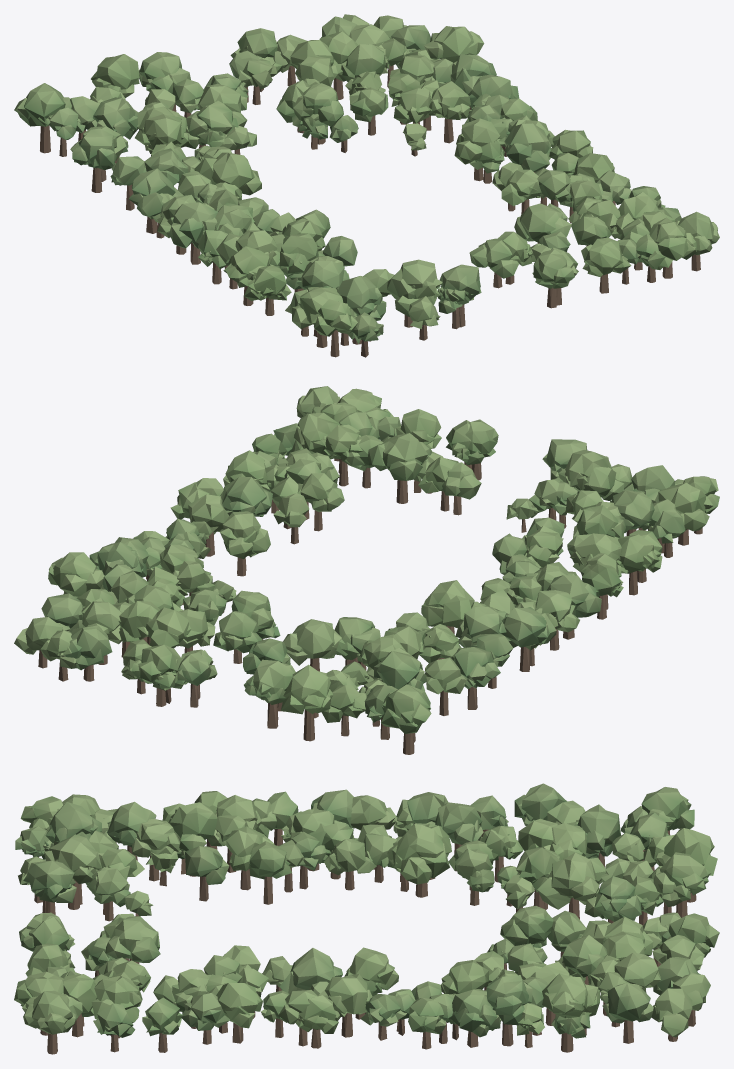
File: mossy_glade_trees_roblox.glb
The picture shows the model from 3 angles, top to bottom: view 1: azimuth 30°, elevation 25°; view 2: azimuth 150°, elevation 25°; view 3: azimuth 270°, elevation 25°; orthographic projection. The views are drawn at different scales.
Parts seen in each view (by area): view 1: Boss_Tree_05, Wide_Tree_43, Wide_Tree_45, Wide_Tree_38, Boss_Tree_22, Wide_Tree_36, Wide_Tree_24, Wide_Tree_79, Wide_Tree_63, Boss_Tree_77, Wide_Tree_20, Boss_Tree_33 (+71 smaller); view 2: Wide_Tree_63, Boss_Tree_02, Boss_Tree_05, Wide_Tree_17, Wide_Tree_36, Wide_Tree_41, Wide_Tree_38, Boss_Tree_03, Wide_Tree_20, Boss_Tree_01, Boss_Tree_70, Boss_Tree_22 (+68 smaller); view 3: Wide_Tree_38, Wide_Tree_17, Wide_Tree_76, Wide_Tree_20, Wide_Tree_63, Wide_Tree_28, Boss_Tree_32, Boss_Tree_72, Wide_Tree_11, Boss_Tree_45, Boss_Tree_75, Wide_Tree_45 (+97 smaller).
Boxes of the visible parts, x1=… form: Boss_Tree_05: x1=14, y1=83, x2=71, y2=153; Wide_Tree_43: x1=169, y1=202, x2=217, y2=264; Wide_Tree_45: x1=504, y1=123, x2=551, y2=171; Wide_Tree_38: x1=194, y1=152, x2=261, y2=195; Boss_Tree_22: x1=70, y1=128, x2=116, y2=192; Wide_Tree_36: x1=129, y1=168, x2=183, y2=233; Wide_Tree_24: x1=293, y1=83, x2=343, y2=144; Wide_Tree_79: x1=641, y1=217, x2=696, y2=278; Wide_Tree_63: x1=514, y1=203, x2=571, y2=243; Boss_Tree_77: x1=581, y1=237, x2=631, y2=293; Wide_Tree_20: x1=424, y1=26, x2=484, y2=62; Boss_Tree_33: x1=428, y1=81, x2=470, y2=143; Wide_Tree_63: x1=367, y1=433, x2=428, y2=503; Boss_Tree_02: x1=281, y1=664, x2=333, y2=741; Boss_Tree_05: x1=381, y1=684, x2=431, y2=754; Wide_Tree_17: x1=283, y1=619, x2=341, y2=671; Wide_Tree_36: x1=504, y1=607, x2=556, y2=671; Wide_Tree_41: x1=220, y1=511, x2=270, y2=576; Wide_Tree_38: x1=421, y1=580, x2=474, y2=634; Boss_Tree_03: x1=244, y1=659, x2=294, y2=728; Wide_Tree_20: x1=48, y1=552, x2=103, y2=596; Boss_Tree_01: x1=131, y1=644, x2=181, y2=706; Boss_Tree_70: x1=658, y1=482, x2=713, y2=545; Boss_Tree_22: x1=454, y1=647, x2=500, y2=709; Wide_Tree_38: x1=396, y1=824, x2=451, y2=897; Wide_Tree_17: x1=537, y1=852, x2=599, y2=919; Wide_Tree_76: x1=23, y1=990, x2=82, y2=1054; Wide_Tree_20: x1=542, y1=973, x2=598, y2=1052; Wide_Tree_63: x1=105, y1=916, x2=160, y2=963; Wide_Tree_28: x1=485, y1=975, x2=532, y2=1046; Boss_Tree_32: x1=450, y1=989, x2=501, y2=1047; Boss_Tree_72: x1=44, y1=834, x2=101, y2=909; Wide_Tree_11: x1=602, y1=983, x2=653, y2=1043; Boss_Tree_45: x1=319, y1=974, x2=372, y2=1037; Boss_Tree_75: x1=23, y1=860, x2=76, y2=914; Wide_Tree_45: x1=279, y1=948, x2=342, y2=995.
Size of the model in its own units: 35.87 by 5.85 by 48.1.
